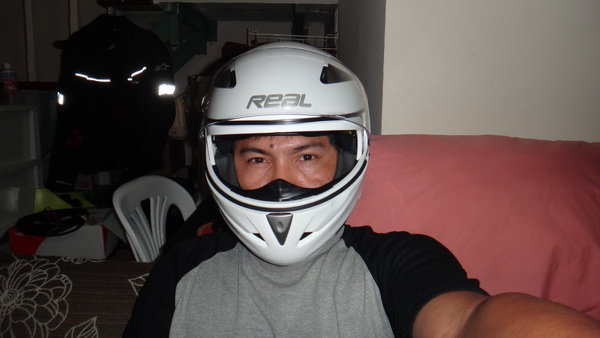helmet: (201, 43, 370, 267)
